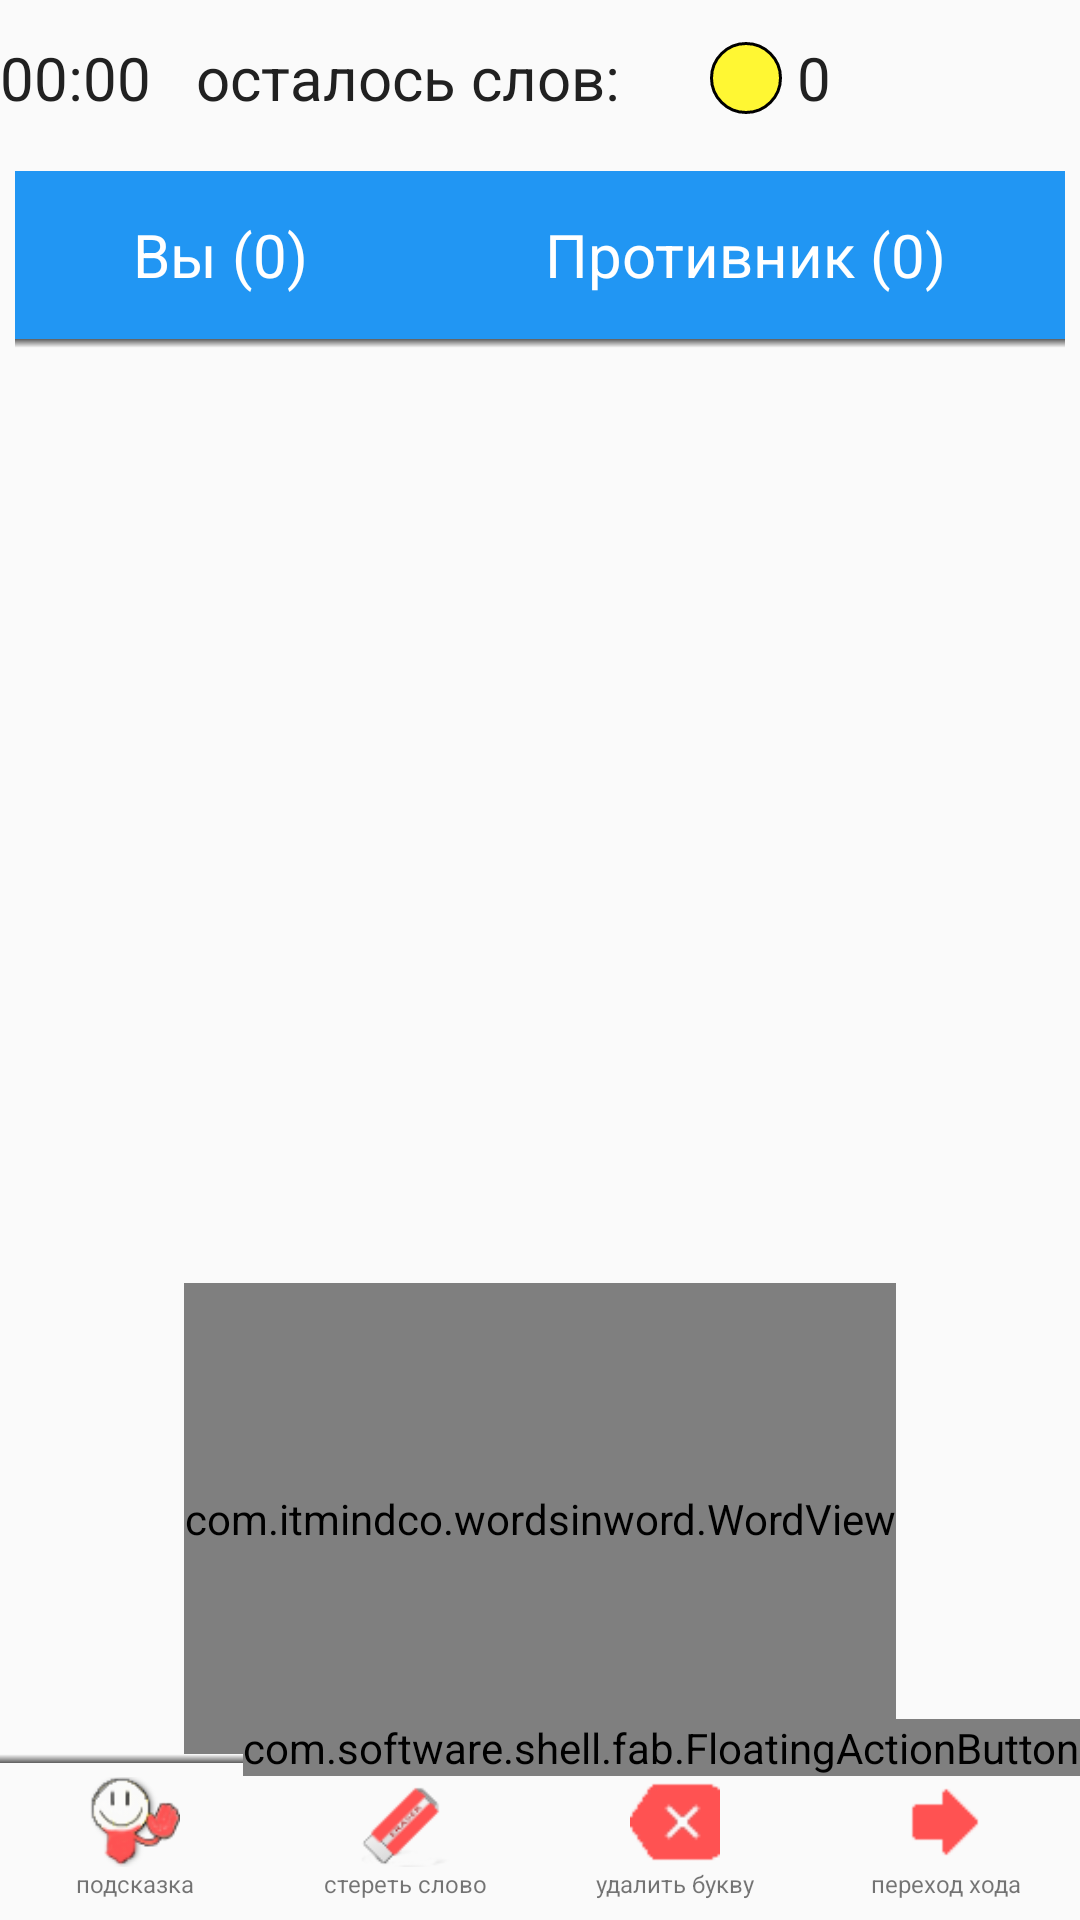

Named icons in this screenshot (1080px×1920px) and their centers, [x,y]:
coin: [746,78]
